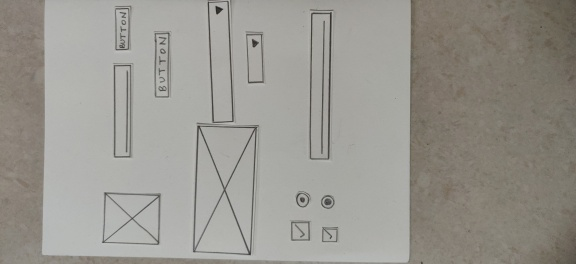button: (152, 32, 175, 98), (109, 5, 134, 49)
checkbox: (288, 218, 310, 246), (320, 225, 344, 249)
dropdown: (206, 1, 233, 119), (244, 31, 275, 89)
img: (191, 123, 253, 258), (100, 191, 160, 246)
radio: (288, 189, 310, 211), (318, 193, 338, 210)
text: (308, 5, 333, 161), (113, 63, 139, 156)
